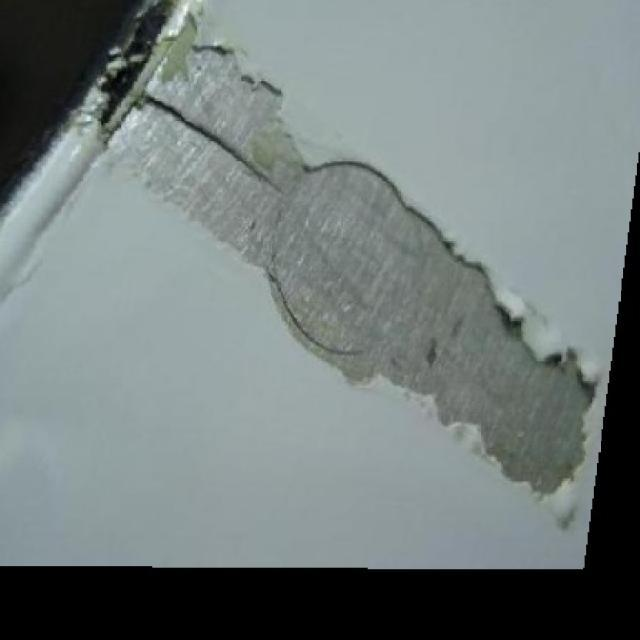crack: (213, 135, 281, 191), (143, 94, 211, 135)
